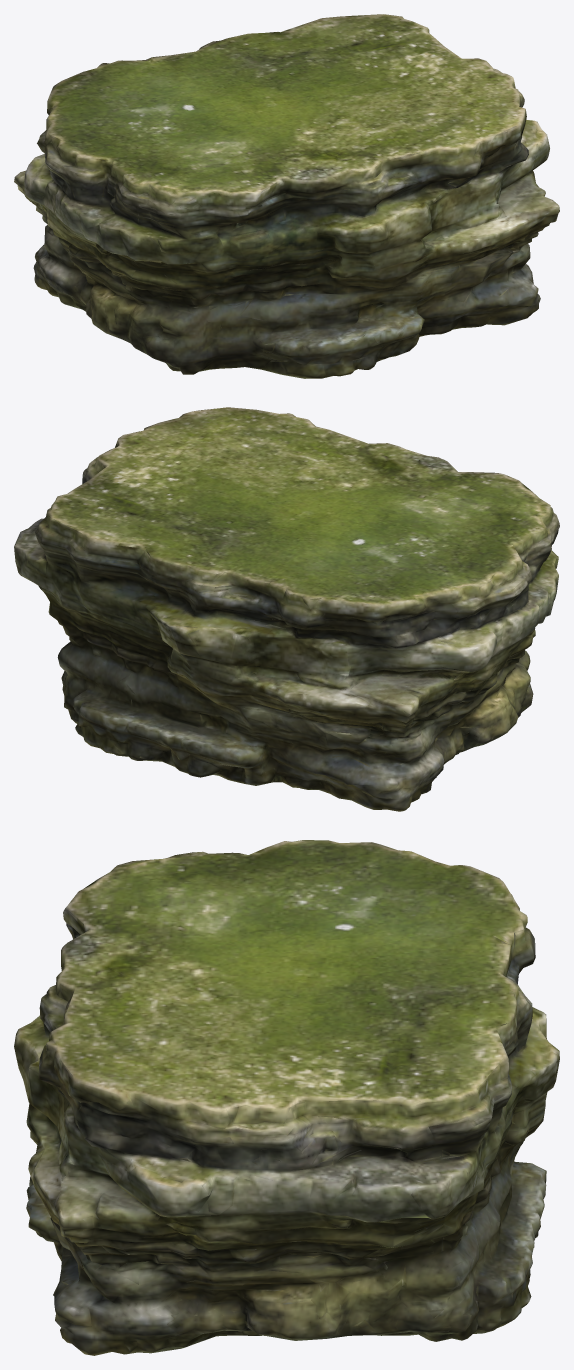
The model's file is rock_2.glb.
The picture shows the model from 3 angles, top to bottom: view 1: azimuth 30°, elevation 25°; view 2: azimuth 150°, elevation 25°; view 3: azimuth 270°, elevation 25°; orthographic projection. The views are drawn at different scales.
Visible parts, largest first — view 1: Mesh1.0; view 2: Mesh1.0; view 3: Mesh1.0.
Part boxes in pixels (box(x1,y1,x2,y2)): Mesh1.0: box(14, 14, 559, 378); Mesh1.0: box(14, 407, 559, 811); Mesh1.0: box(14, 840, 559, 1355).
Size of the model in its own units: 1.91 by 0.8195 by 1.49.
1 material, 1 textured.
